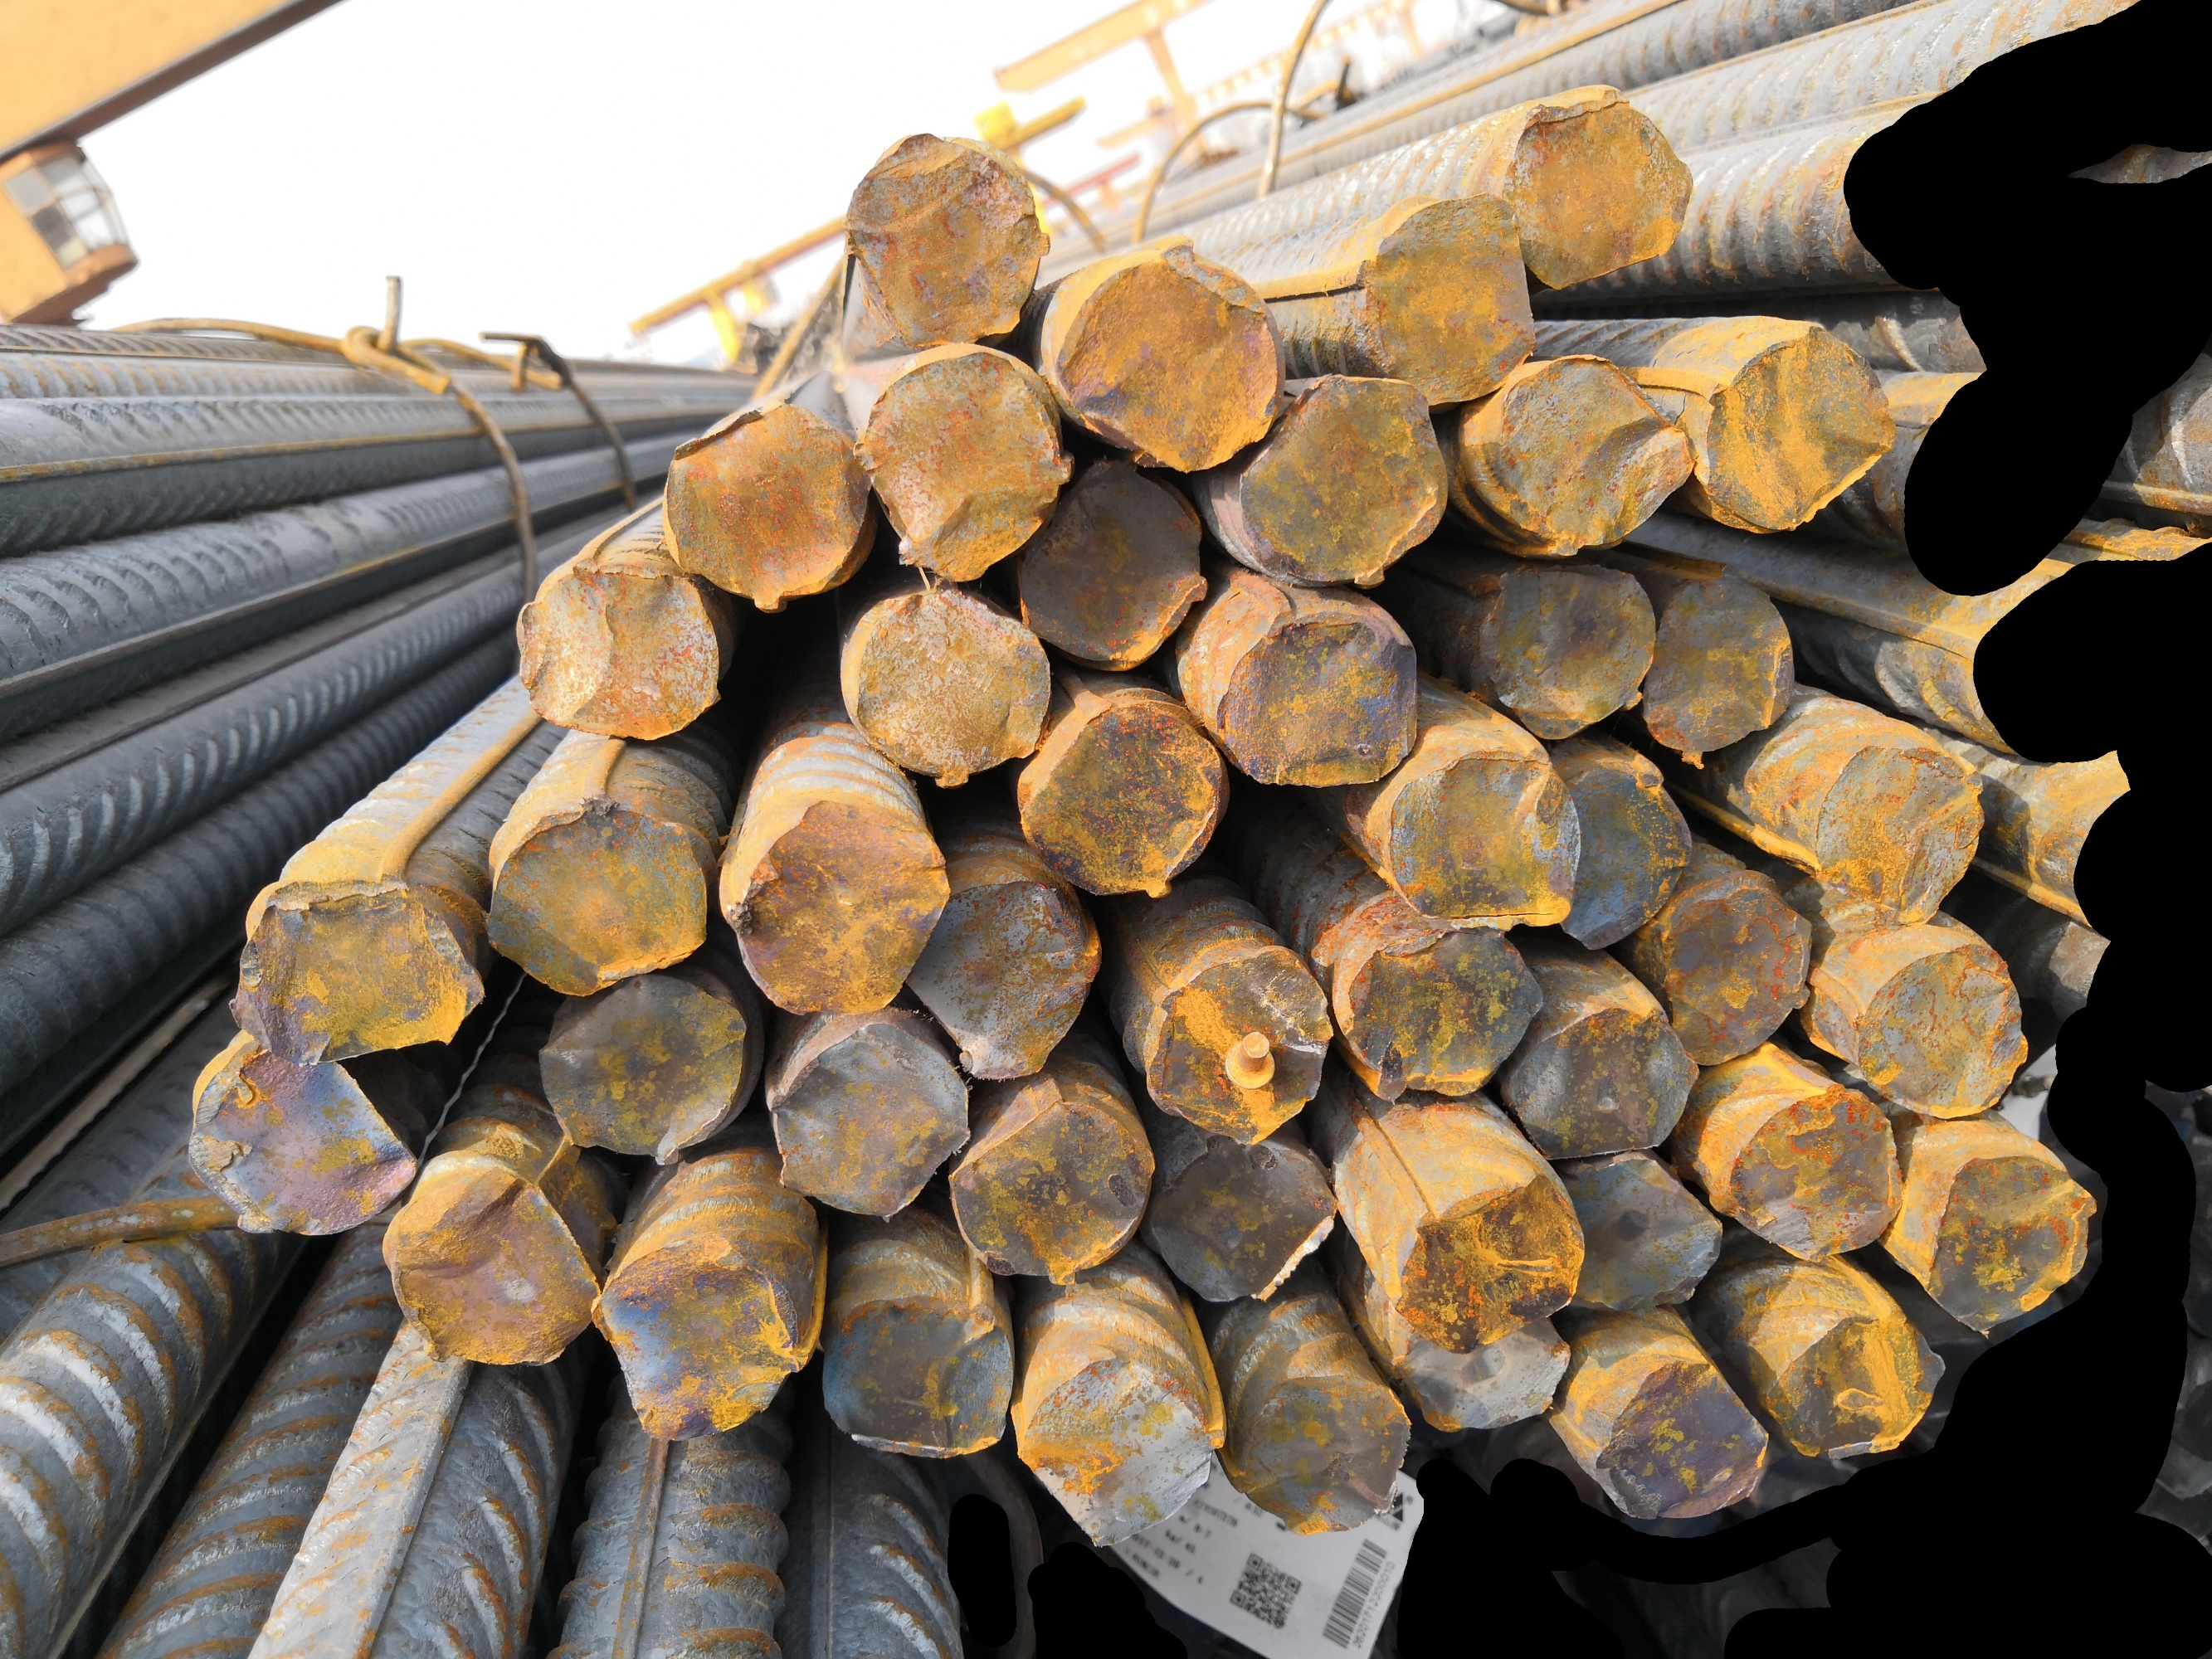rebar: (1055, 239, 1292, 477), (720, 791, 950, 1021), (225, 868, 490, 1061), (859, 345, 1074, 584), (483, 784, 715, 1000), (1234, 366, 1450, 591), (185, 1042, 420, 1243), (657, 396, 870, 617), (844, 127, 1053, 349), (1696, 314, 1902, 538), (382, 1162, 600, 1373), (835, 584, 1056, 791), (589, 1244, 816, 1443), (1489, 347, 1700, 559), (532, 967, 755, 1168), (1018, 694, 1227, 906), (1011, 1342, 1227, 1547), (903, 875, 1105, 1087), (945, 1093, 1157, 1293), (763, 1023, 969, 1223), (1013, 458, 1203, 674), (1503, 82, 1696, 291), (1217, 598, 1421, 795), (511, 559, 723, 748), (1358, 192, 1541, 406), (1382, 741, 1584, 932), (1140, 945, 1333, 1143), (1337, 932, 1548, 1112), (1388, 1168, 1588, 1356), (1713, 1080, 1909, 1267), (1808, 735, 1992, 932), (1921, 1141, 2100, 1342), (1145, 1133, 1342, 1312), (1846, 936, 2032, 1124), (1222, 1358, 1417, 1535), (819, 1286, 1018, 1459), (1645, 878, 1816, 1075), (1471, 563, 1658, 742), (1506, 1002, 1706, 1166), (1590, 1349, 1771, 1528), (1645, 556, 1801, 763), (1768, 1304, 1947, 1464), (1557, 760, 1696, 958), (1565, 1152, 1727, 1321), (1382, 1312, 1572, 1436)
